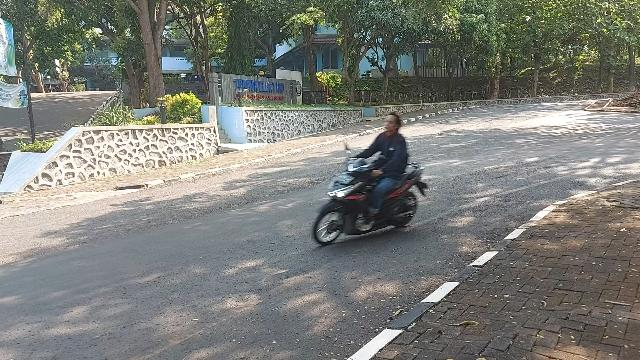motor: (313, 144, 429, 247)
non-helm: (385, 114, 401, 133)
